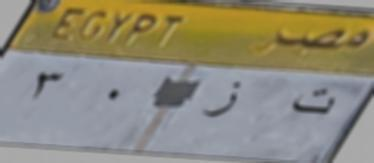0: (103, 82, 127, 106)
3: (31, 67, 65, 106)
taa: (289, 79, 335, 125)
zay: (200, 75, 245, 126)
